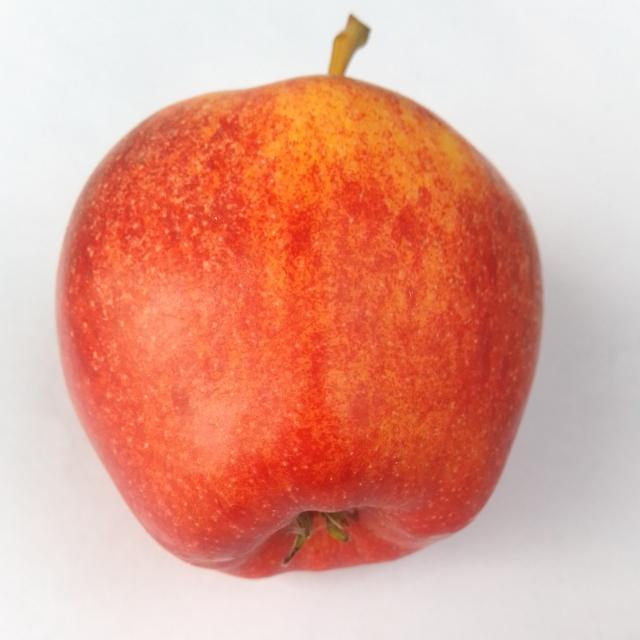Fresh Apple: (56, 88, 532, 565)
